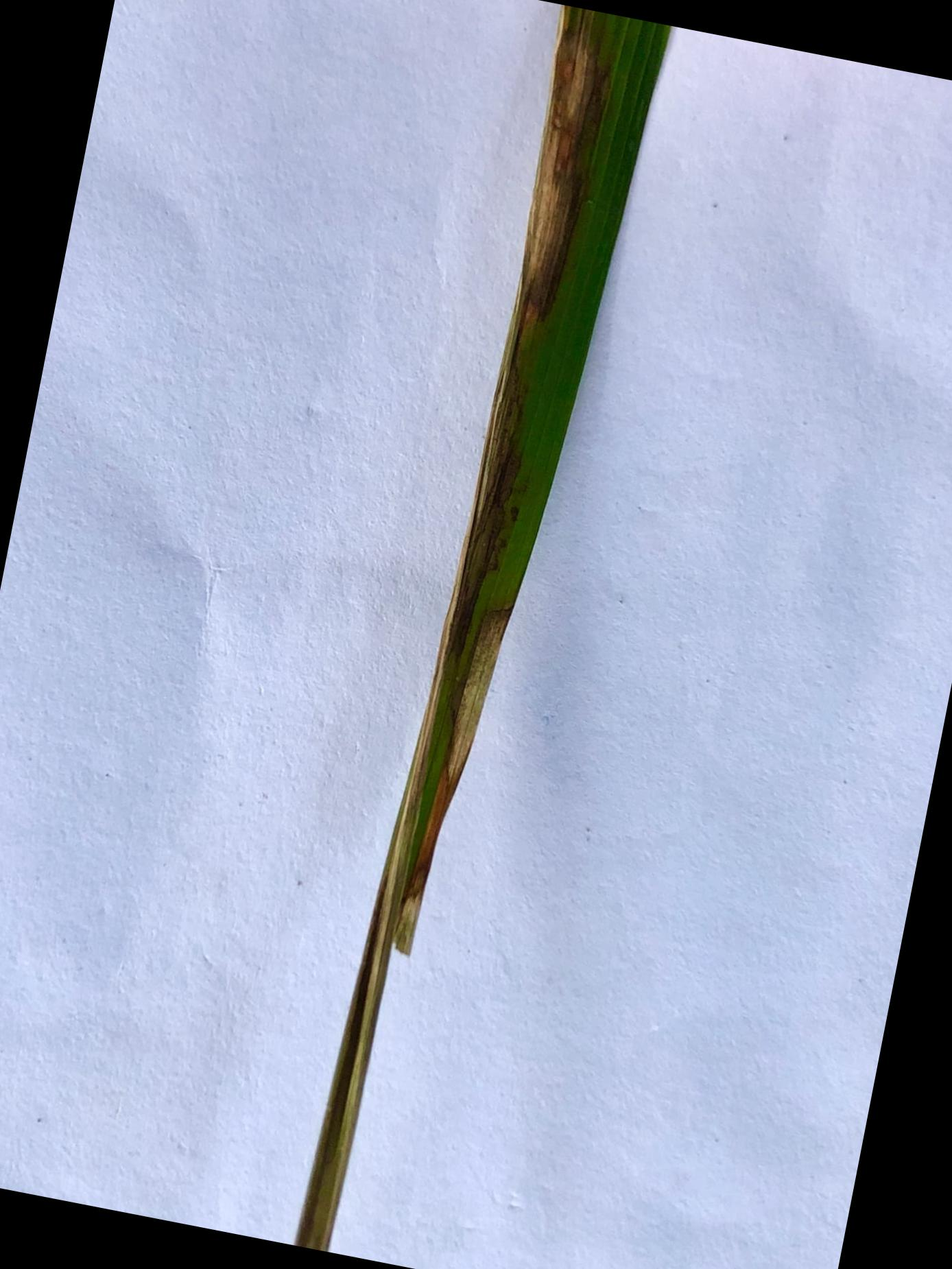Leaf Blight: (296, 5, 616, 1252), (394, 602, 516, 961)
